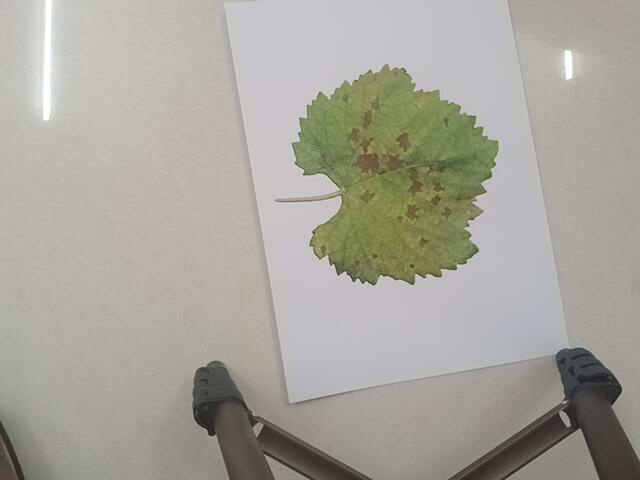Grape_Leaf_Vine_Disease: (276, 54, 494, 294)
